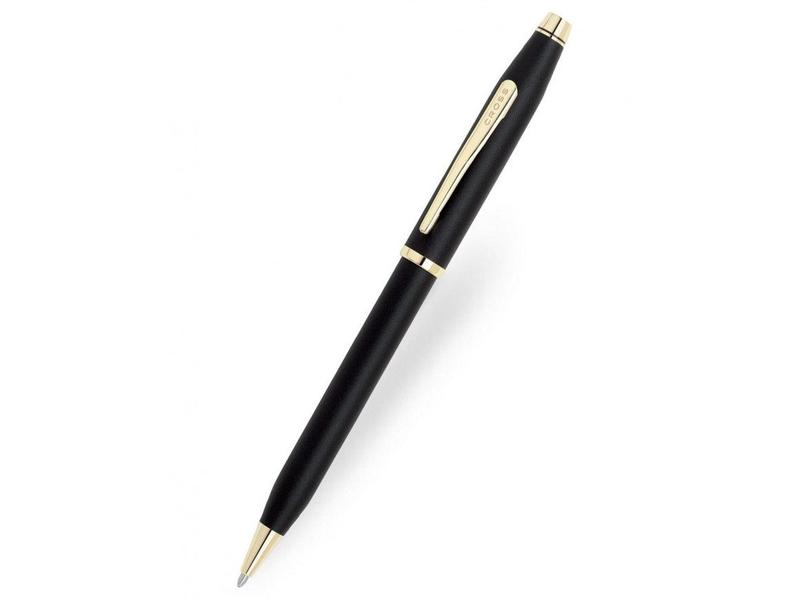qillqana: (212, 11, 625, 581)
